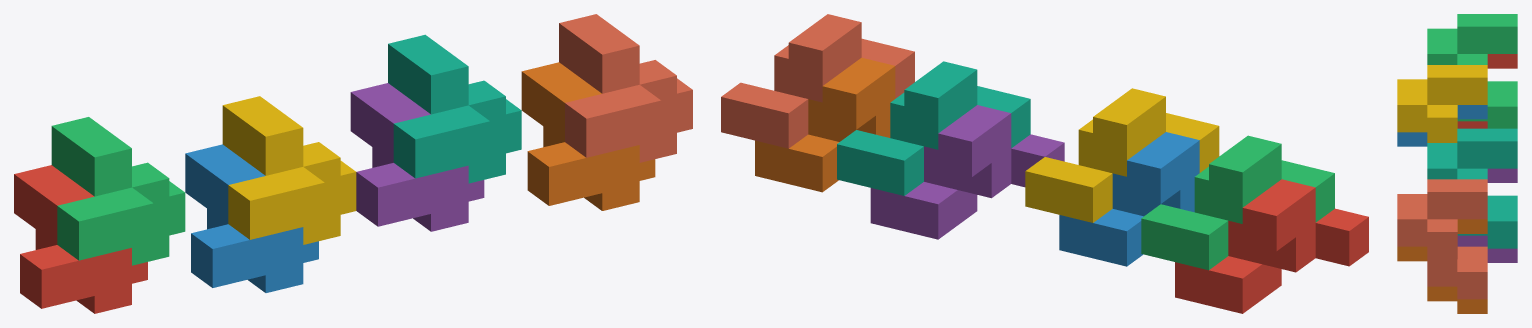
Rendered from tiling.obj.
3 views of the same model, side by side, from view 1: azimuth 30°, elevation 25°; view 2: azimuth 150°, elevation 25°; view 3: azimuth 270°, elevation 25° (orthographic). The views are drawn at different scales.
Visible parts, largest first — view 1: copy_1_domain_4, copy_1_domain_3, copy_1_domain_7, copy_1_domain_8, copy_1_domain_6, copy_1_domain_5, copy_1_domain_2, copy_1_domain_1; view 2: copy_1_domain_1, copy_1_domain_5, copy_1_domain_3, copy_1_domain_4, copy_1_domain_7, copy_1_domain_8, copy_1_domain_2, copy_1_domain_6; view 3: copy_1_domain_8, copy_1_domain_7, copy_1_domain_3, copy_1_domain_4, copy_1_domain_6, copy_1_domain_5, copy_1_domain_2, copy_1_domain_1.
Part boxes in pixels (box(x1,y1,x2,y2)): copy_1_domain_4: box(222, 96, 356, 244); copy_1_domain_3: box(51, 117, 185, 265); copy_1_domain_7: box(388, 34, 521, 183); copy_1_domain_8: box(559, 14, 692, 162); copy_1_domain_6: box(521, 62, 655, 210); copy_1_domain_5: box(350, 83, 484, 231); copy_1_domain_2: box(185, 144, 318, 292); copy_1_domain_1: box(14, 165, 147, 313); copy_1_domain_1: box(1175, 179, 1368, 313); copy_1_domain_5: box(870, 105, 1064, 239); copy_1_domain_3: box(1141, 135, 1334, 270); copy_1_domain_4: box(1025, 88, 1219, 222); copy_1_domain_7: box(837, 61, 1030, 195); copy_1_domain_8: box(721, 14, 914, 148); copy_1_domain_2: box(1059, 132, 1199, 266); copy_1_domain_6: box(755, 57, 895, 192); copy_1_domain_8: box(1397, 179, 1487, 299); copy_1_domain_7: box(1427, 128, 1517, 248); copy_1_domain_3: box(1427, 14, 1517, 128); copy_1_domain_4: box(1397, 65, 1487, 142); copy_1_domain_6: box(1397, 219, 1487, 313); copy_1_domain_5: box(1457, 168, 1517, 262); copy_1_domain_2: box(1397, 105, 1487, 146); copy_1_domain_1: box(1457, 54, 1517, 128).
Bounding box in the file's own units: 18 × 4 × 4.
